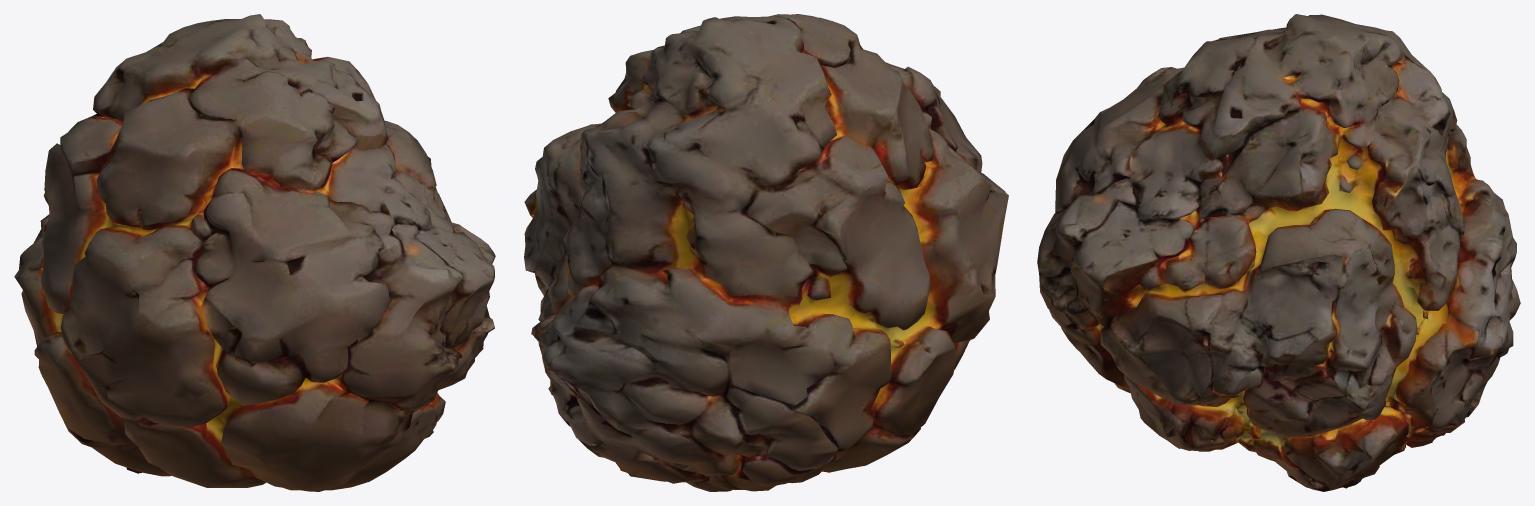
File: meteor-great.glb
3 views of the same model, side by side, from view 1: azimuth 30°, elevation 25°; view 2: azimuth 150°, elevation 25°; view 3: azimuth 270°, elevation 25° (orthographic). The views are drawn at different scales.
Parts seen in each view (by area): view 1: tripo_node_6e4dfbbf-4d47-40b5-81db-27726f0f2e15; view 2: tripo_node_6e4dfbbf-4d47-40b5-81db-27726f0f2e15; view 3: tripo_node_6e4dfbbf-4d47-40b5-81db-27726f0f2e15.
Boxes of the visible parts, box(x1,y1,x2,y2) form: tripo_node_6e4dfbbf-4d47-40b5-81db-27726f0f2e15: box(14, 14, 495, 491); tripo_node_6e4dfbbf-4d47-40b5-81db-27726f0f2e15: box(524, 14, 1008, 491); tripo_node_6e4dfbbf-4d47-40b5-81db-27726f0f2e15: box(1037, 14, 1520, 491).
Bounding box in the file's own units: 0.9335 × 0.9472 × 0.998.
1 material, 1 textured.
